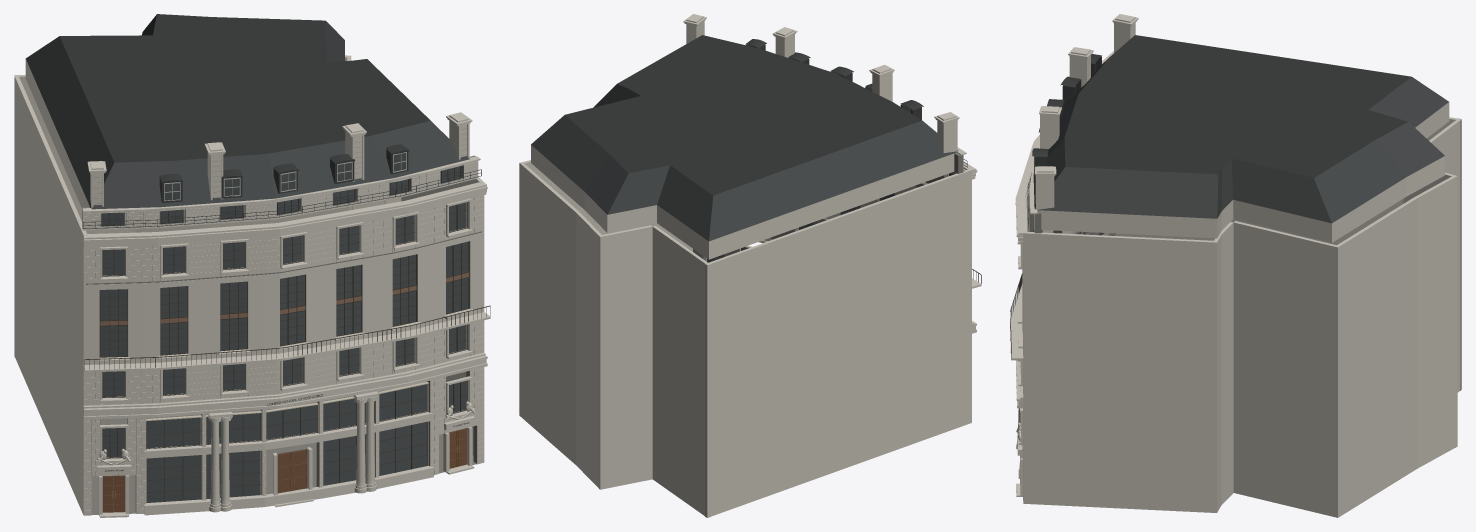
The model's file is clm-exterior-90a465387077.glb.
3 views of the same model, side by side, from view 1: azimuth 30°, elevation 25°; view 2: azimuth 150°, elevation 25°; view 3: azimuth 270°, elevation 25° (orthographic). The views are drawn at different scales.
Parts seen in each view (by area): view 1: CLM.001; view 2: CLM.001; view 3: CLM.001.
Part boxes in pixels (x1=…): CLM.001: x1=14, y1=14, x2=490, y2=517; CLM.001: x1=519, y1=14, x2=981, y2=517; CLM.001: x1=1010, y1=14, x2=1461, y2=517.
Bounding box in the file's own units: 33.24 × 28.79 × 34.59.
